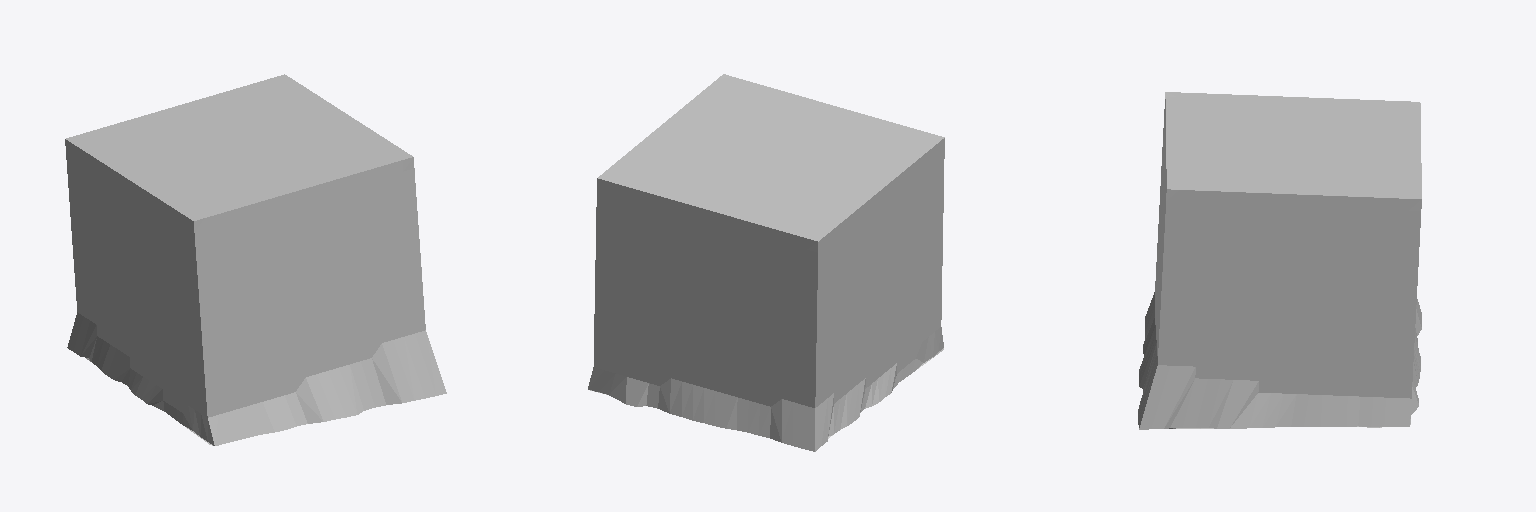
Rendered from mod0021.obj.
3 views of the same model, side by side, from view 1: azimuth 30°, elevation 25°; view 2: azimuth 150°, elevation 25°; view 3: azimuth 270°, elevation 25° (orthographic).
Visible parts, largest first — view 1: Box001; view 2: Box001; view 3: Box001.
Boxes of the visible parts, x1=… form: Box001: x1=65, y1=74, x2=446, y2=445; Box001: x1=588, y1=74, x2=944, y2=451; Box001: x1=1138, y1=92, x2=1421, y2=429.
Size of the model in its own units: 0.5867 by 0.5385 by 0.5979.